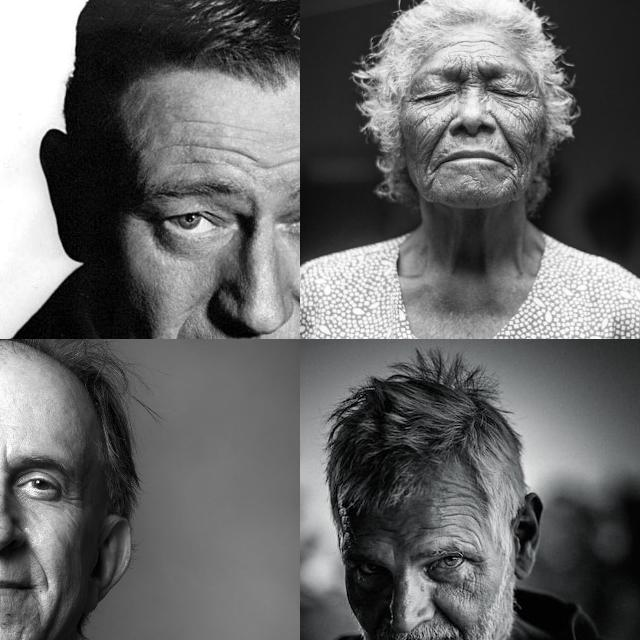crows_feet: (58, 485, 80, 515), (466, 552, 482, 580)
forehead: (442, 482, 482, 526), (197, 135, 251, 163), (446, 30, 494, 52), (286, 145, 300, 172)
frown_line: (457, 58, 483, 82), (0, 442, 14, 464)
gummy_smile: (428, 598, 464, 630), (487, 110, 513, 152), (26, 546, 54, 582), (428, 121, 448, 155), (290, 290, 300, 326)
masseter: (518, 104, 540, 132)
sad_smile: (504, 162, 520, 196), (421, 163, 437, 189)
